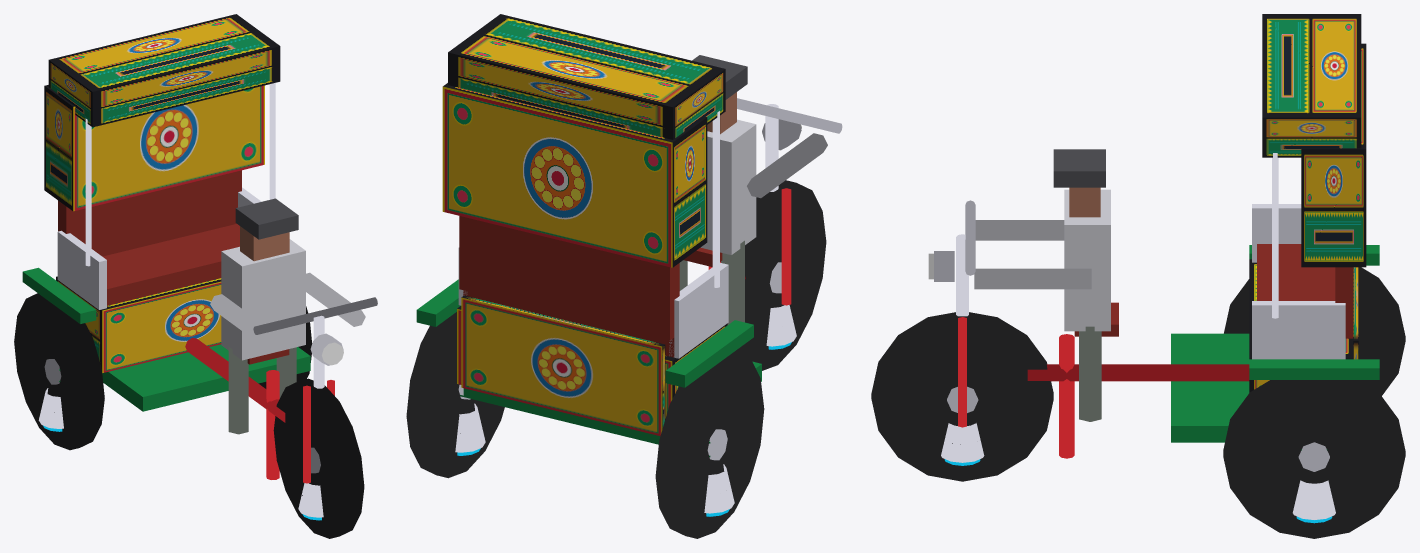
The model's file is bangla_tesla.obj.
The picture shows the model from 3 angles, left to right: view 1: azimuth 30°, elevation 25°; view 2: azimuth 150°, elevation 25°; view 3: azimuth 270°, elevation 25°; orthographic projection. The views are drawn at different scales.
Parts seen in each view (by area): view 1: Canopy_Main, Canopy_TopCurve, Wheel_Rear_L_Tire, Wheel_Front_Tire, Carriage_Backrest, Carriage_SeatBox, Driver_Torso, Carriage_SeatCushion, Chassis_Footrest, Carriage_Armrest_L, Driver_Cap, Fender_Rear_L (+15 smaller); view 2: Canopy_Main, Canopy_TopCurve, Carriage_ArtBackplate, Carriage_Backrest, Wheel_Rear_L_Tire, Wheel_Front_Tire, Wheel_Rear_R_Tire, Driver_Torso, Carriage_Armrest_L, Fender_Rear_L, Driver_Arm_L, Chassis_RearAxle (+14 smaller); view 3: Wheel_Rear_R_Tire, Wheel_Front_Tire, Canopy_TopCurve, Canopy_Main, Chassis_Footrest, Carriage_Armrest_R, Driver_Torso, Wheel_Rear_L_Tire, Chassis_Spine, Carriage_SeatCushion, Fender_Rear_R, Driver_Arm_R (+16 smaller).
Boxes of the visible parts, left/top/right/bottom form: Canopy_Main: left=44, top=85, right=264, bottom=211; Canopy_TopCurve: left=48, top=14, right=280, bottom=127; Wheel_Rear_L_Tire: left=14, top=293, right=104, bottom=450; Wheel_Front_Tire: left=273, top=378, right=364, bottom=538; Carriage_Backrest: left=58, top=170, right=241, bottom=256; Carriage_SeatBox: left=56, top=276, right=221, bottom=372; Driver_Torso: left=221, top=239, right=305, bottom=360; Carriage_SeatCushion: left=103, top=224, right=239, bottom=305; Chassis_Footrest: left=102, top=344, right=310, bottom=411; Carriage_Armrest_L: left=57, top=230, right=106, bottom=309; Driver_Cap: left=235, top=198, right=298, bottom=239; Fender_Rear_L: left=22, top=267, right=96, bottom=323; Canopy_Main: left=442, top=83, right=707, bottom=267; Canopy_TopCurve: left=448, top=14, right=725, bottom=139; Carriage_ArtBackplate: left=461, top=295, right=665, bottom=436; Carriage_Backrest: left=459, top=216, right=679, bottom=340; Wheel_Rear_L_Tire: left=655, top=350, right=764, bottom=538; Wheel_Front_Tire: left=736, top=180, right=826, bottom=370; Wheel_Rear_R_Tire: left=406, top=312, right=504, bottom=478; Driver_Torso: left=701, top=119, right=756, bottom=254; Carriage_Armrest_L: left=669, top=262, right=728, bottom=358; Fender_Rear_L: left=665, top=320, right=753, bottom=387; Driver_Arm_L: left=747, top=133, right=827, bottom=198; Chassis_RearAxle: left=460, top=388, right=710, bottom=456; Wheel_Rear_R_Tire: left=1223, top=380, right=1405, bottom=538; Wheel_Front_Tire: left=871, top=312, right=1053, bottom=481; Canopy_TopCurve: left=1262, top=14, right=1361, bottom=157; Canopy_Main: left=1301, top=43, right=1366, bottom=267; Chassis_Footrest: left=1171, top=333, right=1249, bottom=442; Carriage_Armrest_R: left=1252, top=301, right=1345, bottom=359; Driver_Torso: left=1064, top=189, right=1110, bottom=331; Wheel_Rear_L_Tire: left=1224, top=267, right=1405, bottom=395; Chassis_Spine: left=1027, top=364, right=1249, bottom=381; Carriage_SeatCushion: left=1257, top=244, right=1335, bottom=300; Fender_Rear_R: left=1249, top=359, right=1379, bottom=379; Driver_Arm_R: left=974, top=268, right=1091, bottom=289.
Bounding box in the file's own units: 1.22 × 1.75 × 2.05.
12 materials, 1 textured.
